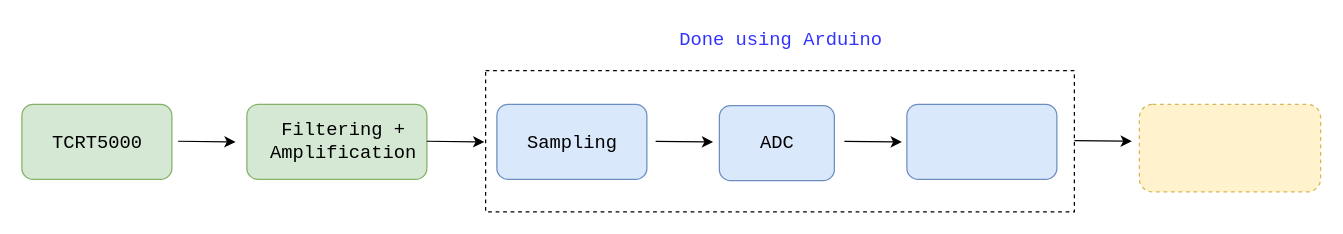
Some shapes in this 1343 by 234 pixel diagram are drawn without their labels. The box of each missing label's shape, as (x1, y1, x2, y2) in pixels:
Encoding: (906, 103, 1057, 179)
Heart Rate, BP and Digital Signal: (1138, 103, 1321, 192)
